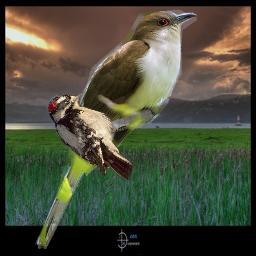Cuckoo: (35, 9, 197, 249)
Woodpecker: (47, 92, 133, 180)
